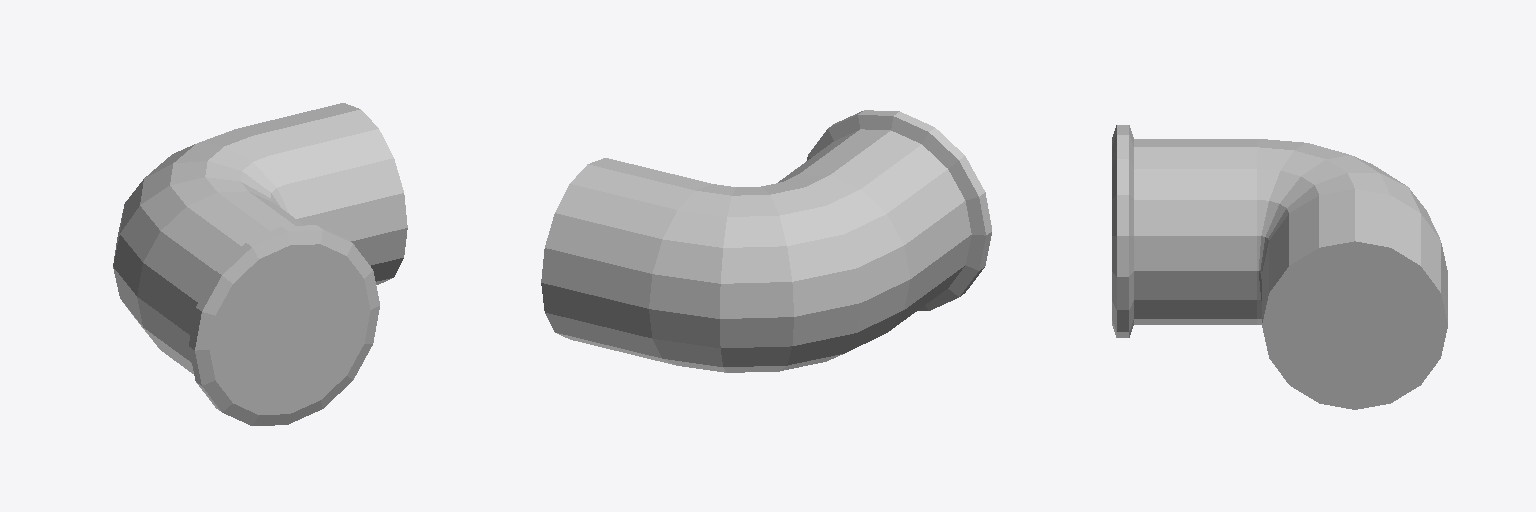
File: pipe_90turn.obj
The picture shows the model from 3 angles: view 1: azimuth 30°, elevation 25°; view 2: azimuth 150°, elevation 25°; view 3: azimuth 270°, elevation 25°; orthographic projection.
Parts seen in each view (by area): view 1: Cylinder.015_Cylinder.019; view 2: Cylinder.015_Cylinder.019; view 3: Cylinder.015_Cylinder.019.
Boxes of the visible parts, x1,y1,x2,y2 form: Cylinder.015_Cylinder.019: [113, 103, 407, 425]; Cylinder.015_Cylinder.019: [541, 110, 991, 372]; Cylinder.015_Cylinder.019: [1112, 125, 1447, 409].
Size of the model in its own units: 0.7086 by 0.4599 by 0.7226.